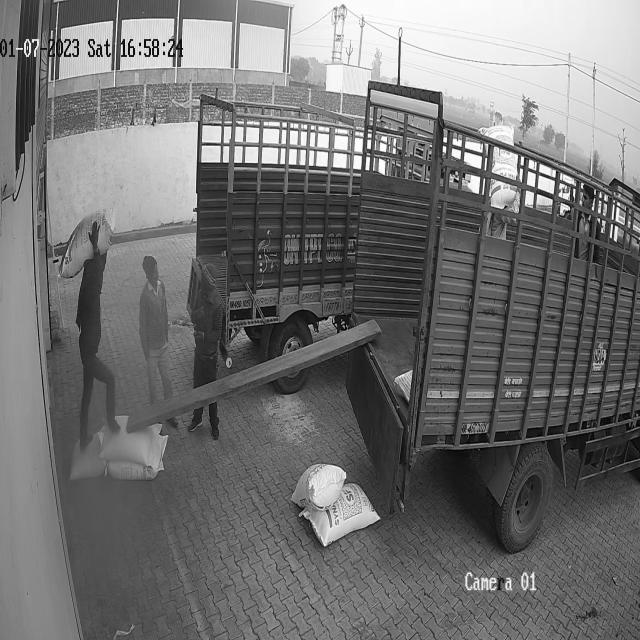sack: (300, 483, 379, 549), (58, 209, 114, 279), (98, 416, 162, 464), (104, 435, 169, 481), (290, 464, 346, 512), (70, 434, 107, 481)
